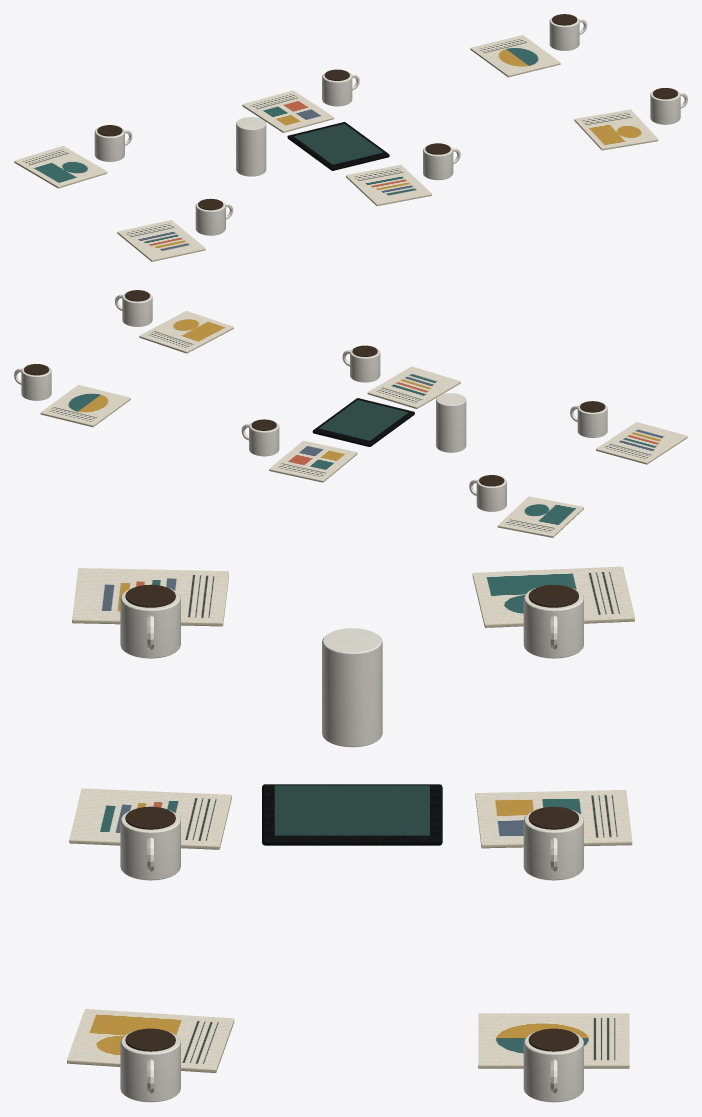
Rendered from conference-table-dressed-v1.glb.
3 views of the same model, one above another, from view 1: azimuth 30°, elevation 25°; view 2: azimuth 150°, elevation 25°; view 3: azimuth 270°, elevation 25° (orthographic). The views are drawn at different scales.
Visible parts, largest first — view 1: Printed stock edge; view 2: Printed stock edge; view 3: Printed stock edge.
Part boxes in pixels (x1,y1,x2,y2): Printed stock edge: (14,14,687,261); Printed stock edge: (14,290,687,537); Printed stock edge: (67,566,634,1102).
Size of the model in its own units: 3.06 by 0.252 by 1.35.
Materials: 6 (3 with a texture image).
